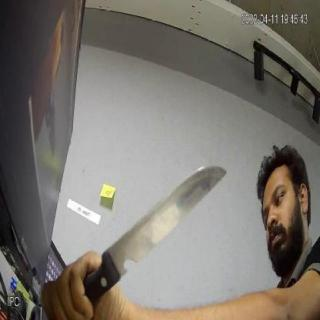knife: (113, 167, 227, 263)
